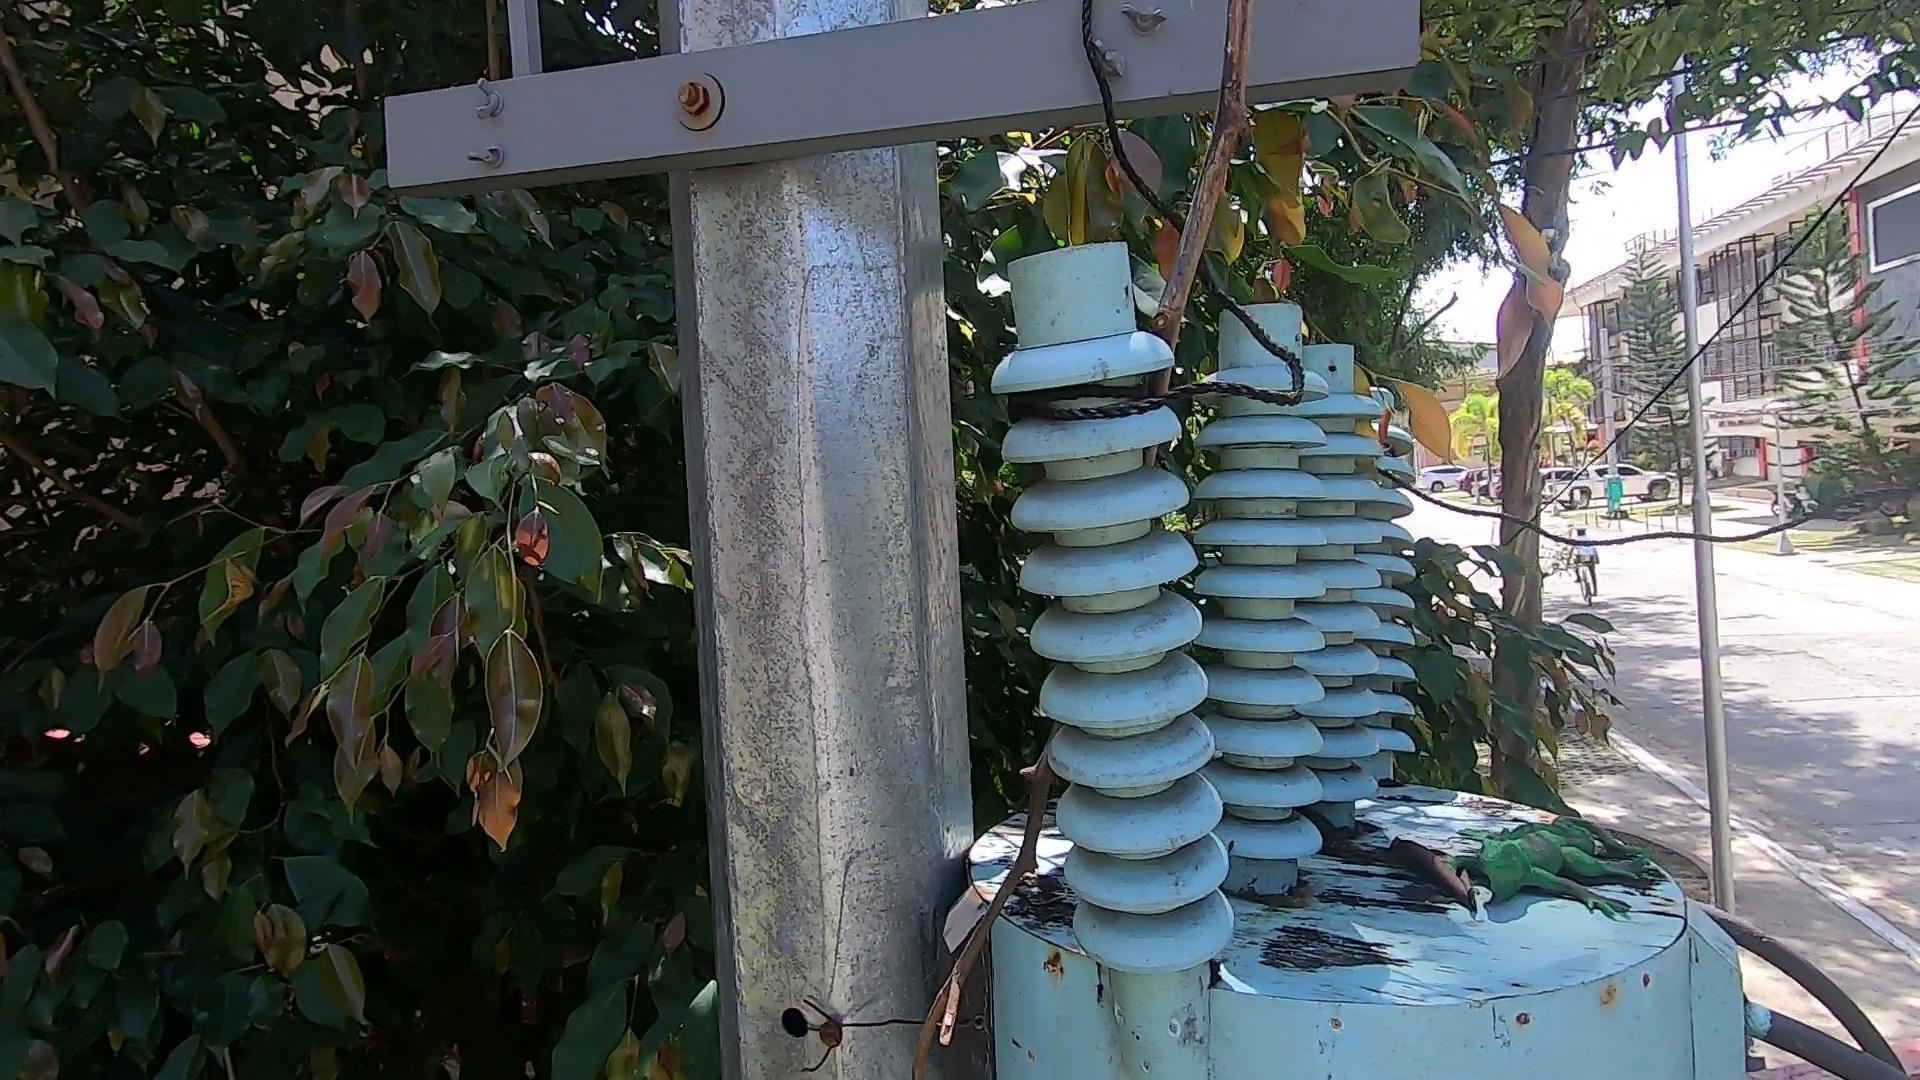branch with leaves: (1222, 280, 1486, 498)
leaf: (1377, 816, 1474, 924), (1000, 860, 1067, 935), (1315, 810, 1356, 864)
tree branch: (861, 7, 1251, 1050)
